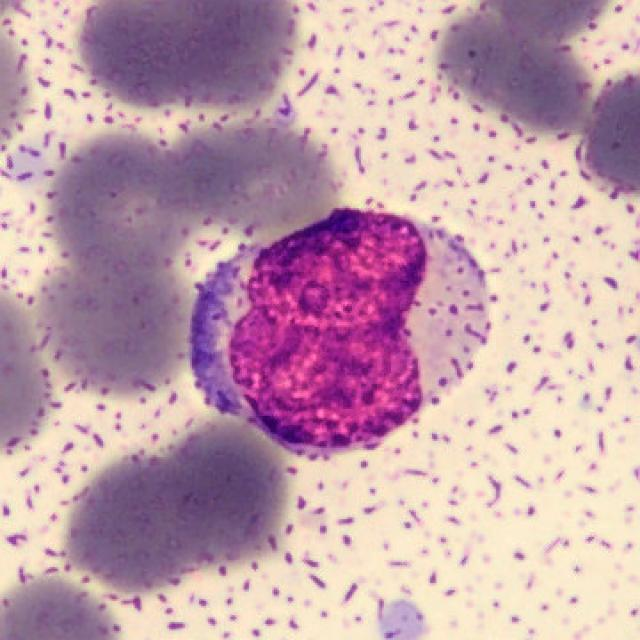Mieloblasto: (187, 208, 500, 460)
